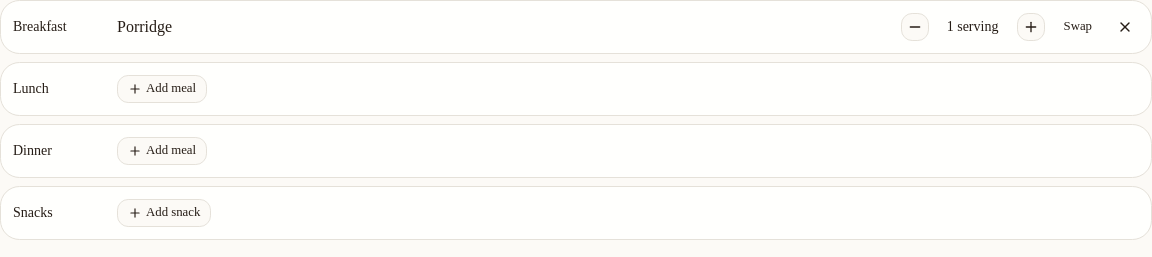
Test: DayMeals › changes a portion with one tap
This screenshot has width=1152, height=257.
Click the button named "Increase portion of Porridge" at (1031, 27), box [1017, 13, 1045, 41]
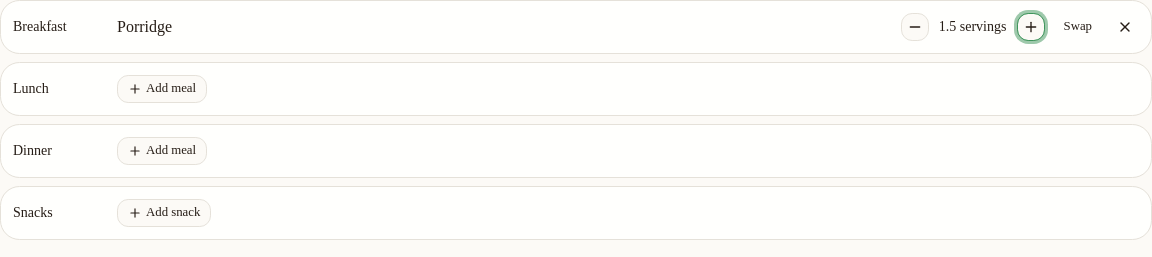
Check: the text "1.5 servings" is shown, box [939, 19, 1006, 34]
